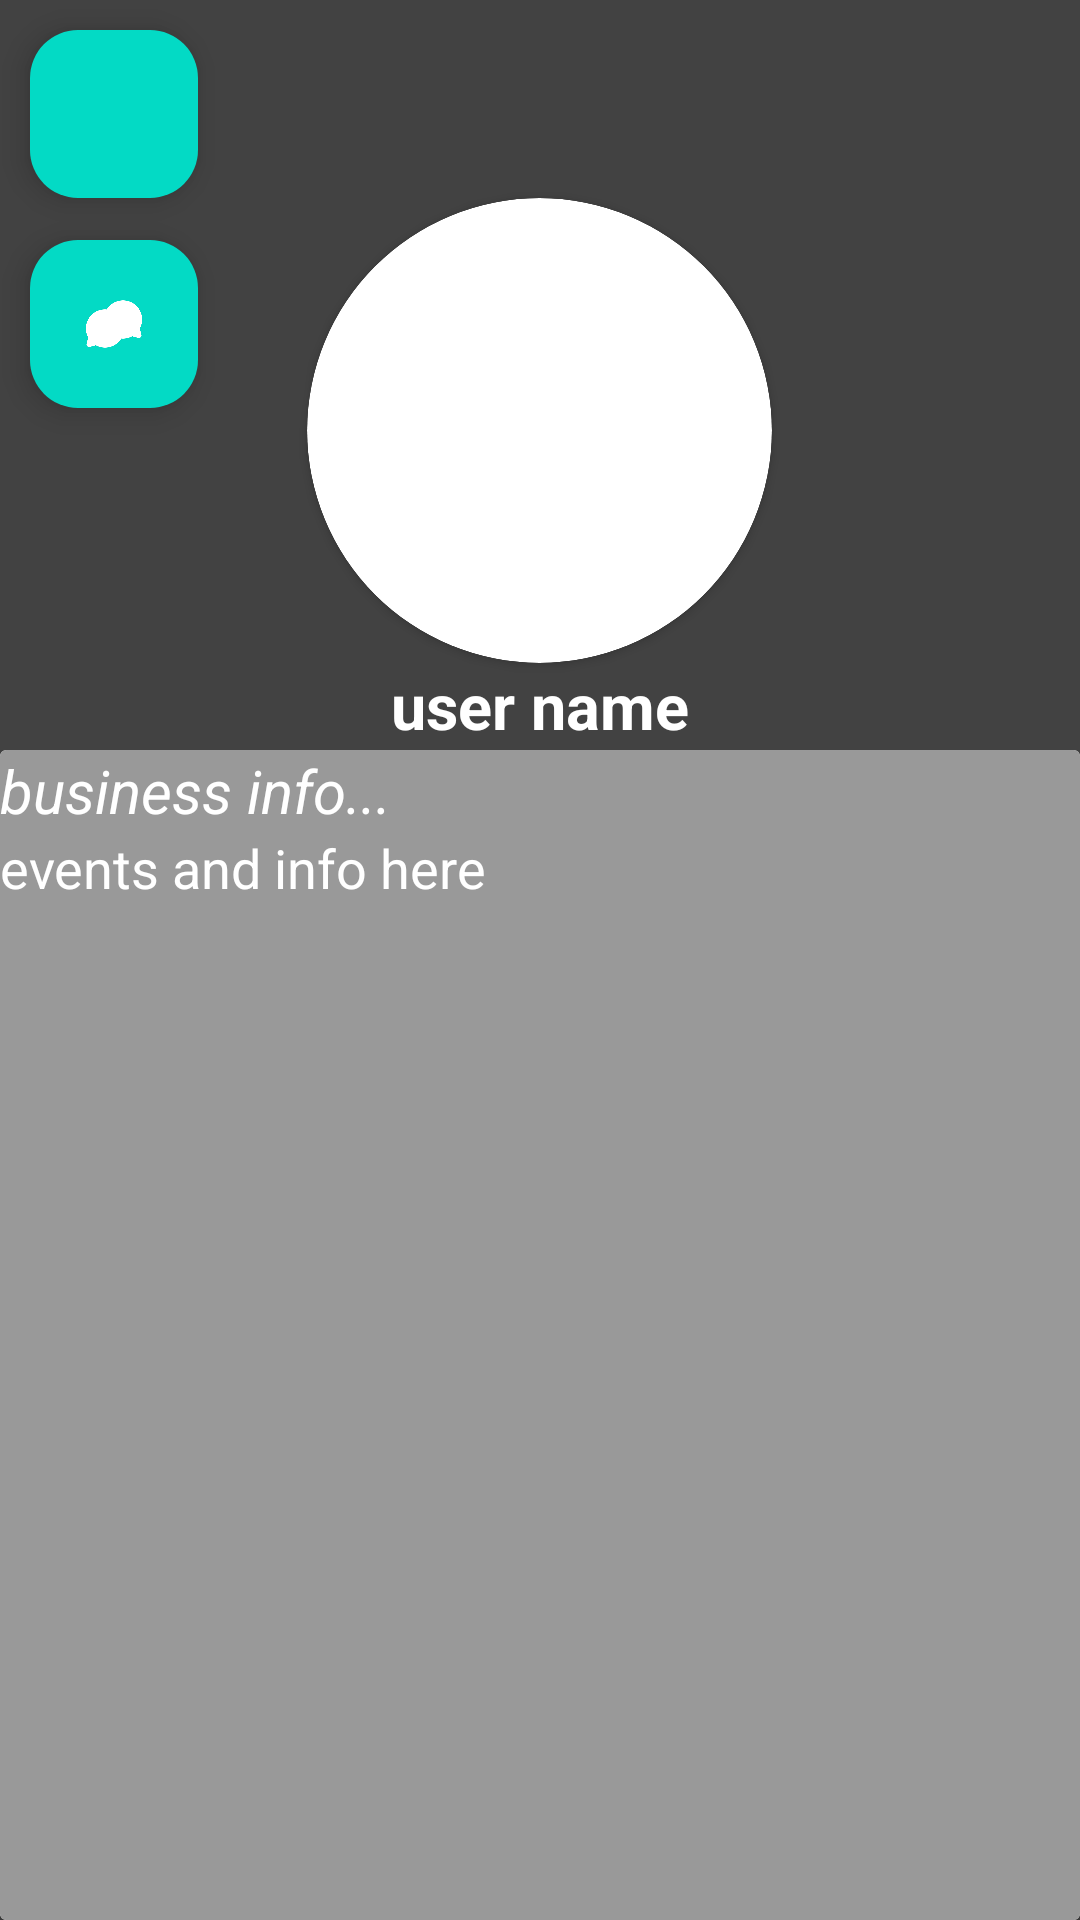

Named icons in this screenshot (1080 x 1920) and their centers, (x,y):
group chat: (114,324)
